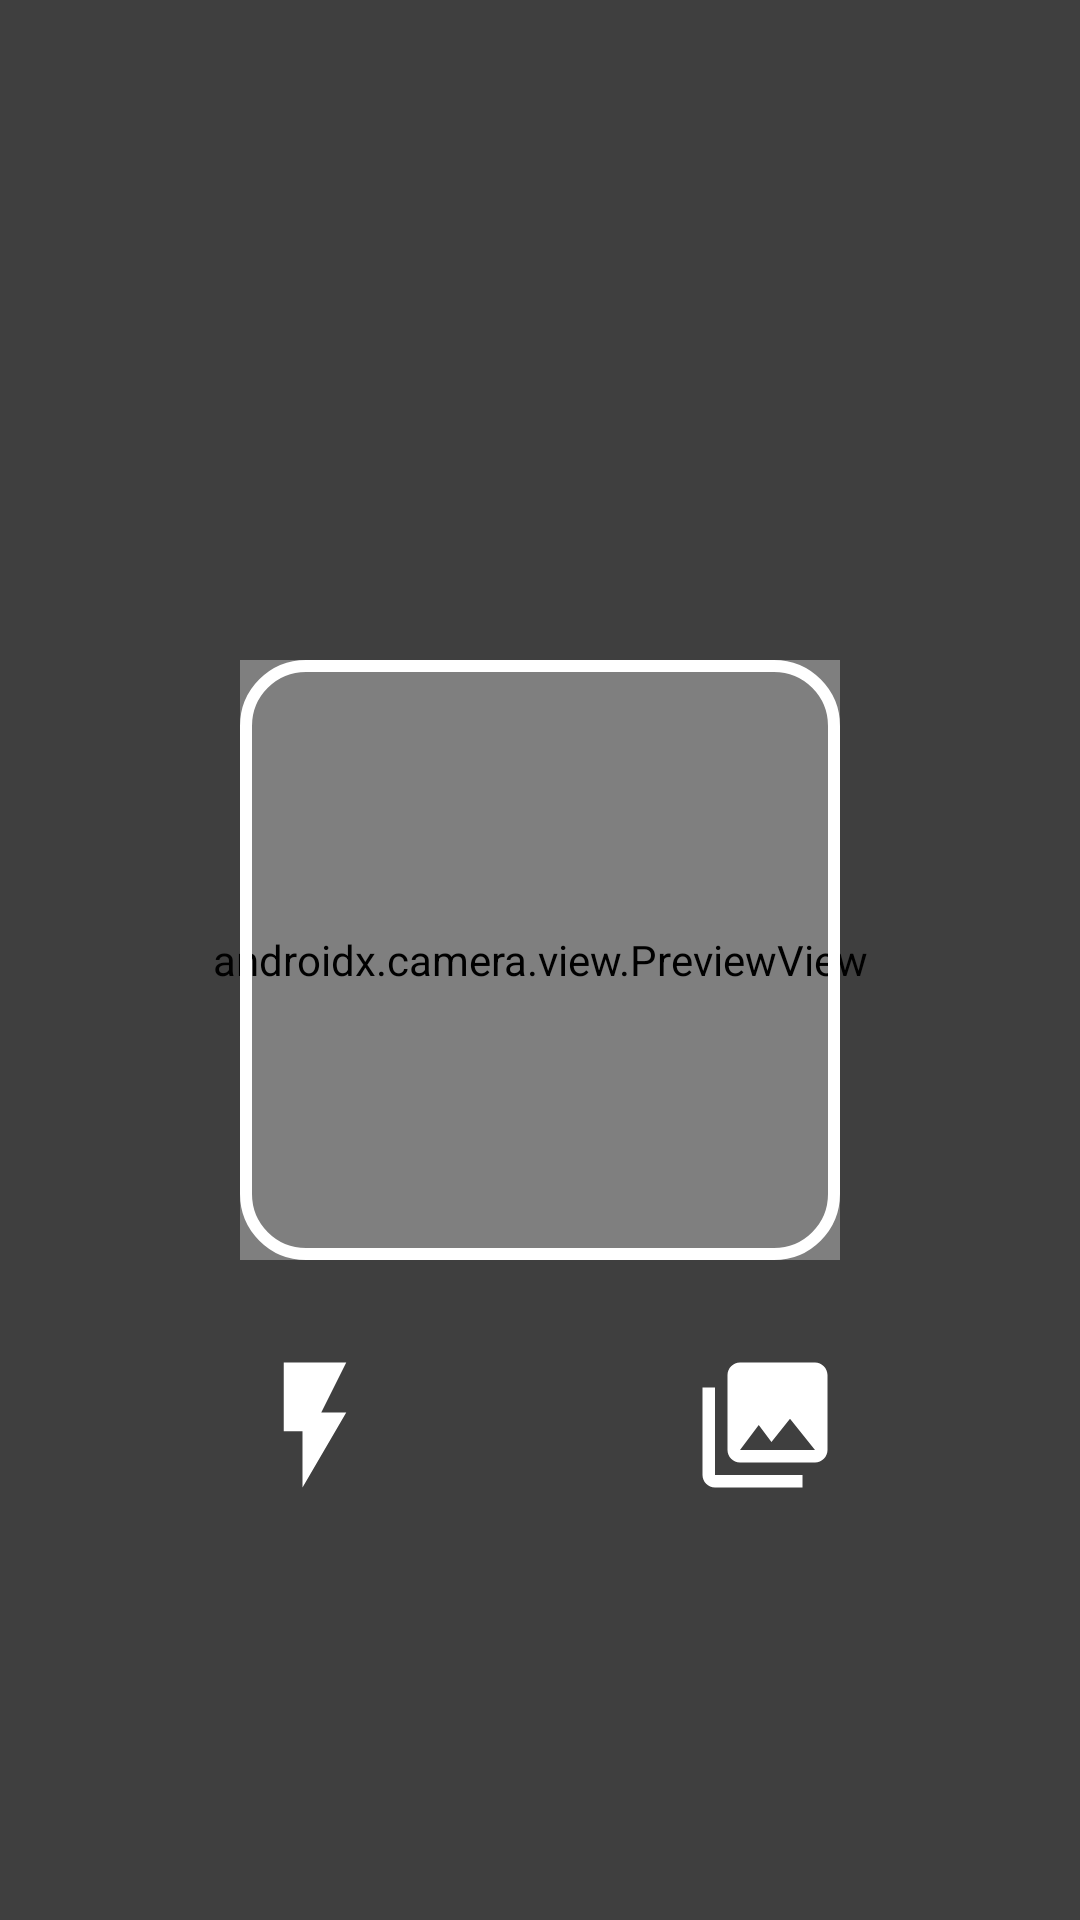

Point at icon controls on the screen. Image size 1080px×1920px, points as (x=x, y=y).
flash on: (x=314, y=1424)
photo library: (x=765, y=1425)
